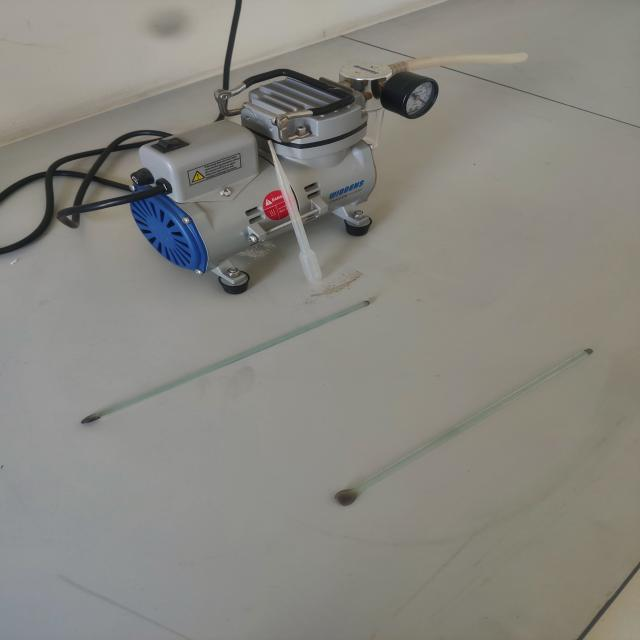Glass_Rod: (68, 268, 414, 438), (321, 332, 615, 514)
Pipette: (235, 120, 350, 302)
